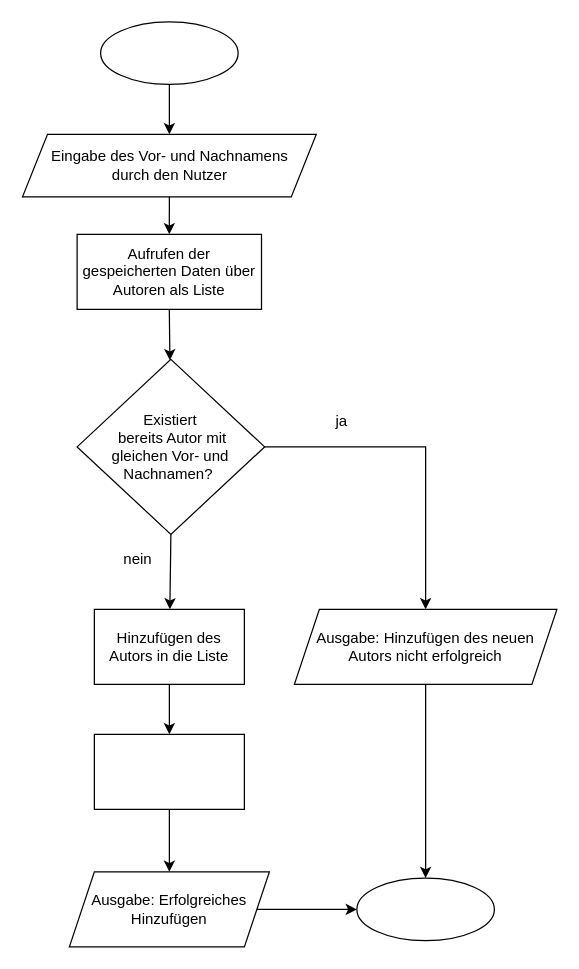
This 579x969 diagram has some shape labels left out. The box of each missing label's shape, as (x1, y1, x2, y2) in pixels:
Ende: (356, 877, 494, 941)
Speicherung der neuen Informationen: (93, 733, 244, 809)
Start: (99, 21, 238, 84)
